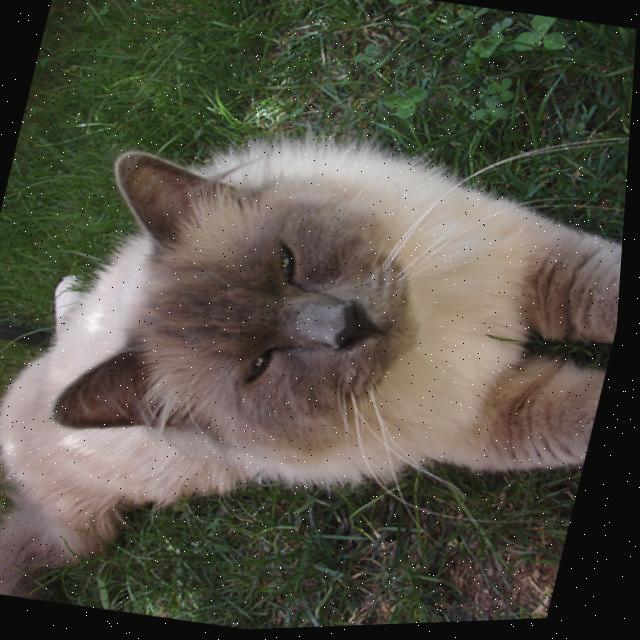Birman: (0, 77, 635, 640)
